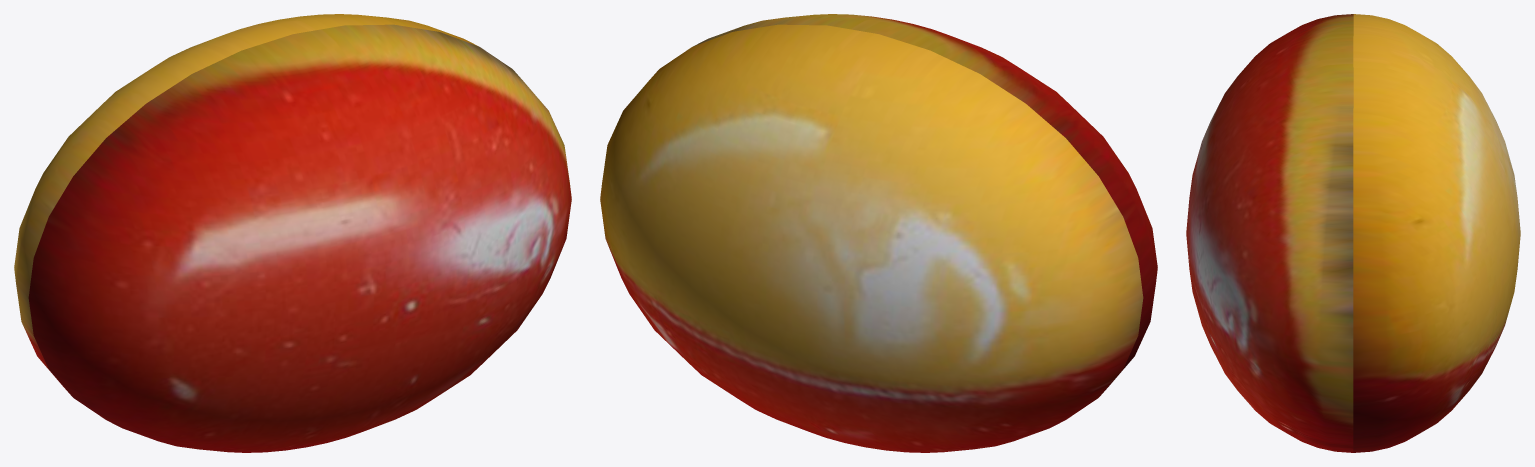
The model's file is 20140311GOPHDRGPT02811.fbx.
3 views of the same model, side by side, from view 1: azimuth 30°, elevation 25°; view 2: azimuth 150°, elevation 25°; view 3: azimuth 270°, elevation 25° (orthographic). The views are drawn at different scales.
Parts seen in each view (by area): view 1: Sphere; view 2: Sphere; view 3: Sphere.
Part boxes in pixels (x1,y1,x2,y2): Sphere: (14,14,571,452); Sphere: (600,14,1157,452); Sphere: (1186,14,1520,452).
Size of the model in its own units: 1.03 by 0.745 by 0.613.
1 material, 1 textured.
